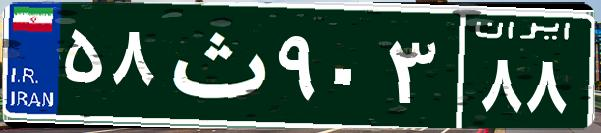0: (330, 28, 385, 110)
3: (385, 28, 445, 110)
5: (57, 26, 110, 107)
8: (475, 38, 525, 113), (110, 28, 158, 105), (525, 38, 570, 115)
9: (273, 28, 330, 110)
ث: (158, 15, 273, 115)
